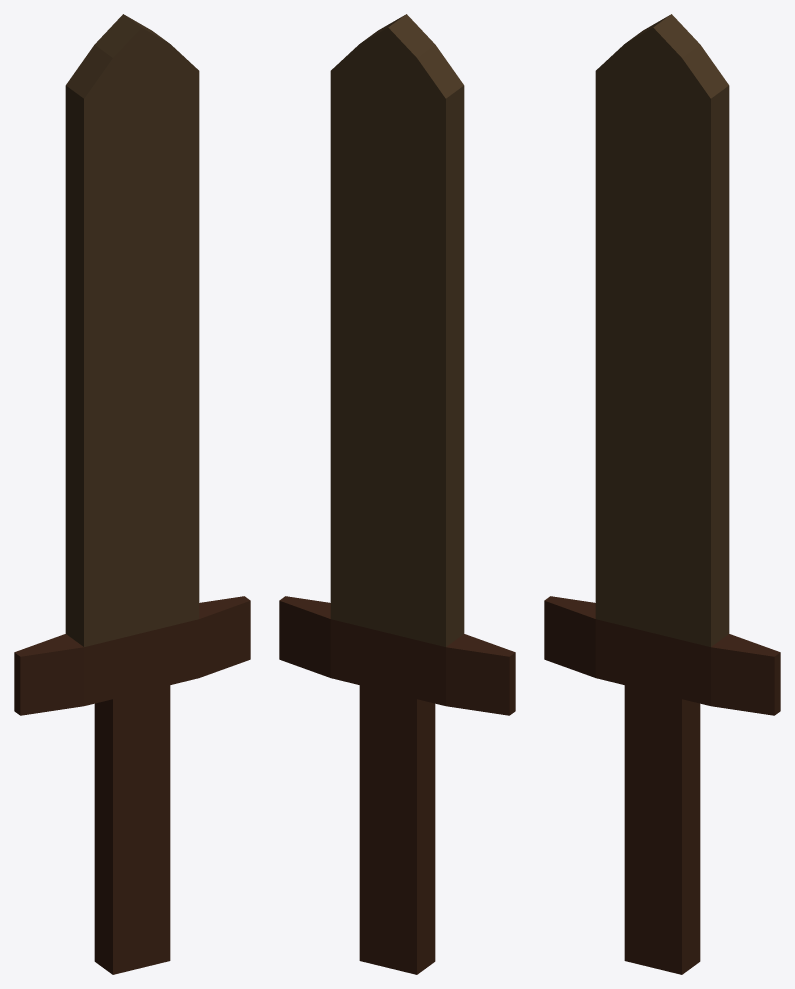
The model's file is Watcher Espada Madeira.fbx.
The picture shows the model from 3 angles, left to right: view 1: azimuth 30°, elevation 25°; view 2: azimuth 150°, elevation 25°; view 3: azimuth 330°, elevation 25°; orthographic projection.
Parts seen in each view (by area): view 1: Espada Madeira; view 2: Espada Madeira; view 3: Espada Madeira.
Boxes of the visible parts, <box> form: Espada Madeira: <box>14,14,250,974</box>; Espada Madeira: <box>279,14,515,974</box>; Espada Madeira: <box>544,14,780,974</box>.
Bounding box in the file's own units: 20.37 × 79.5 × 2.82.
